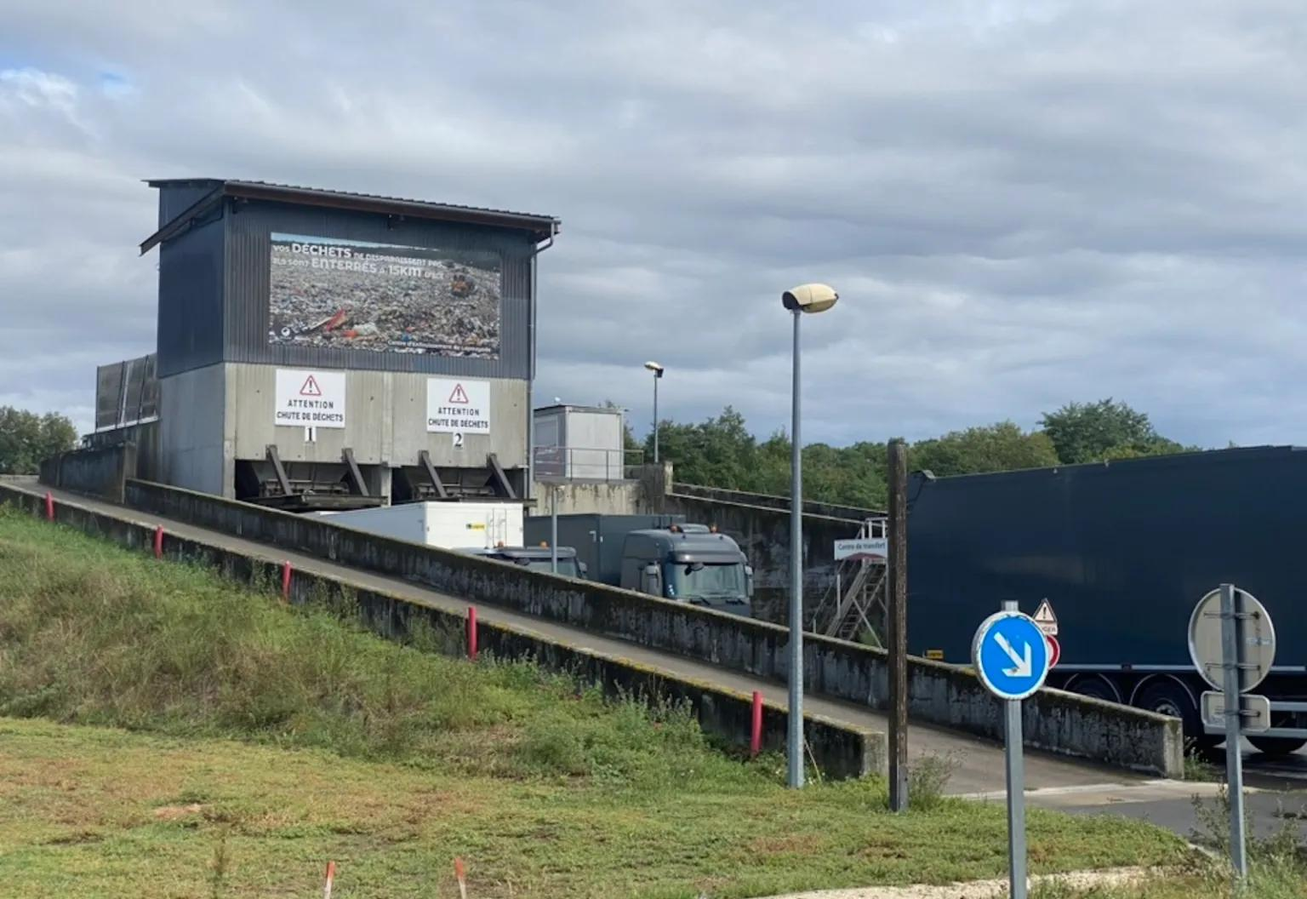sky: (0, 3, 1307, 446)
